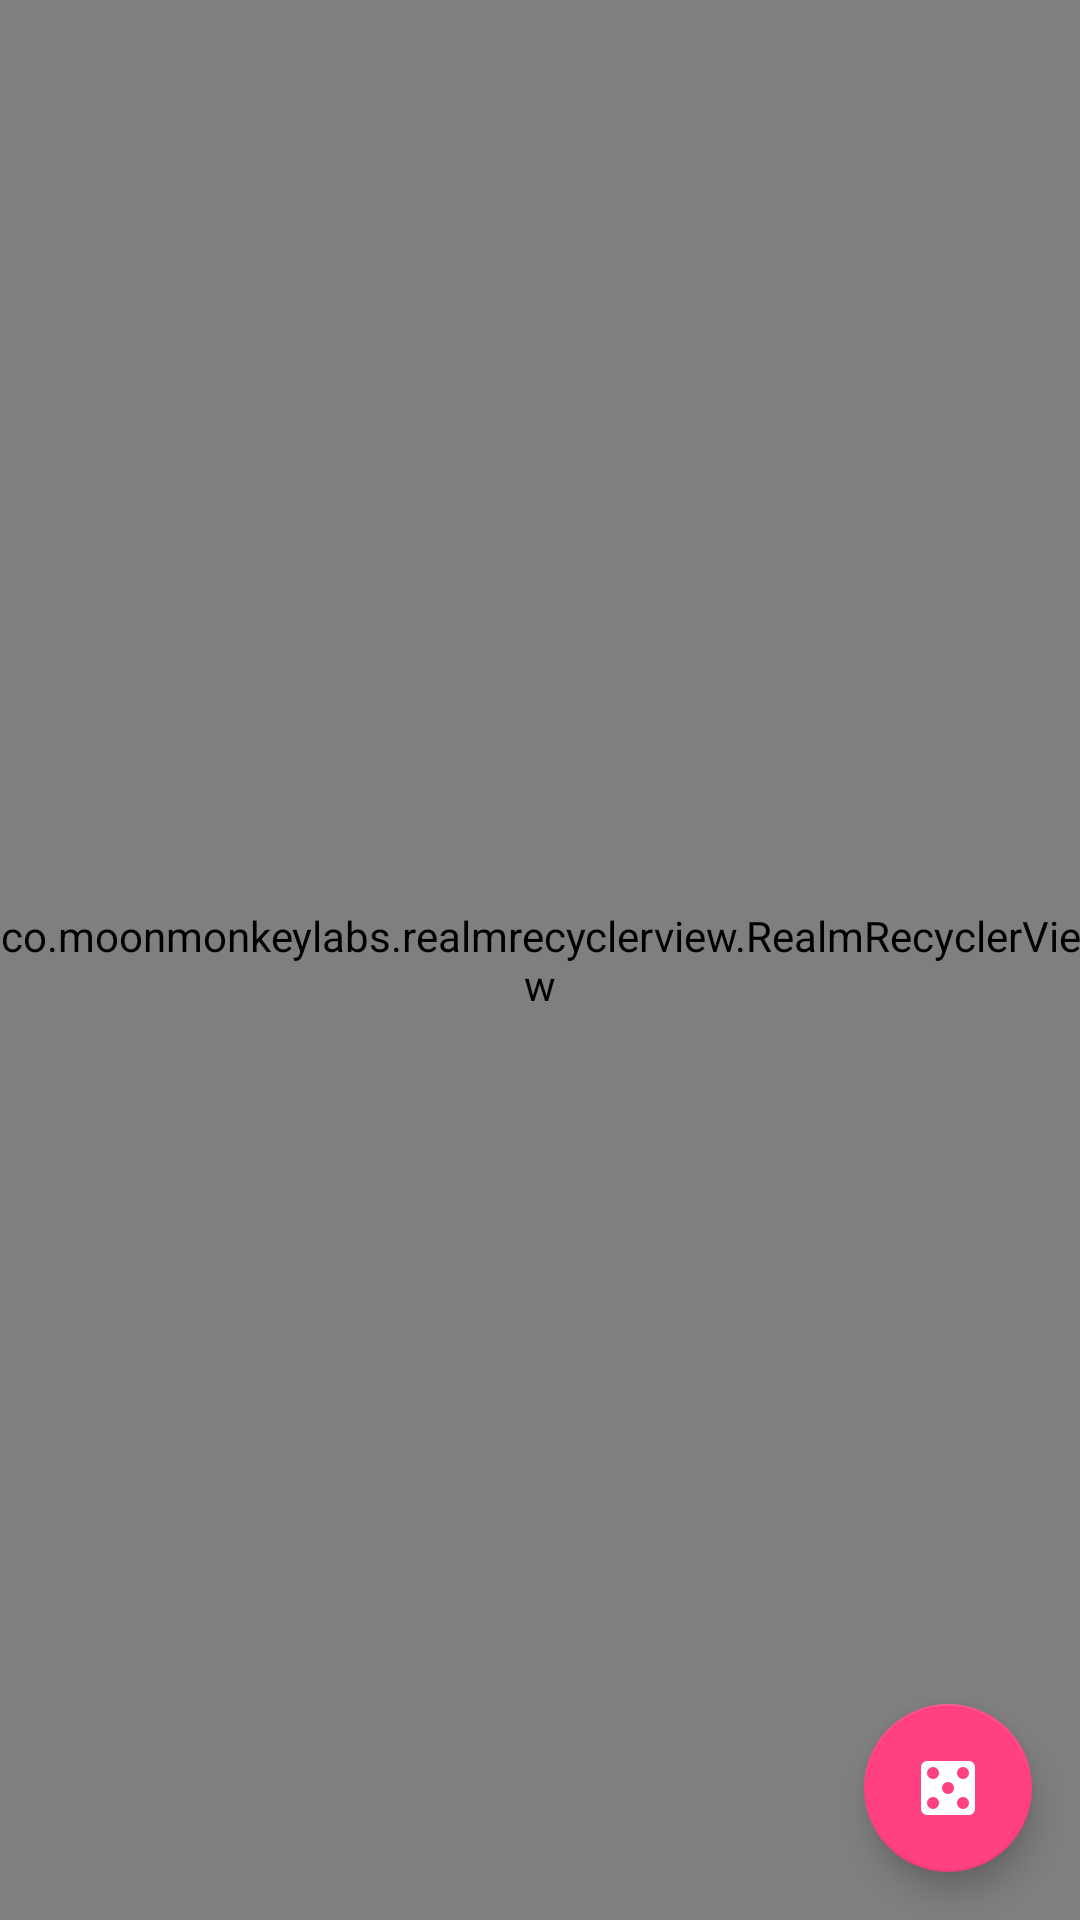

Where to tap for icons on this 1080x1920 app screen, as point (x, y):
die: point (948, 1788)
